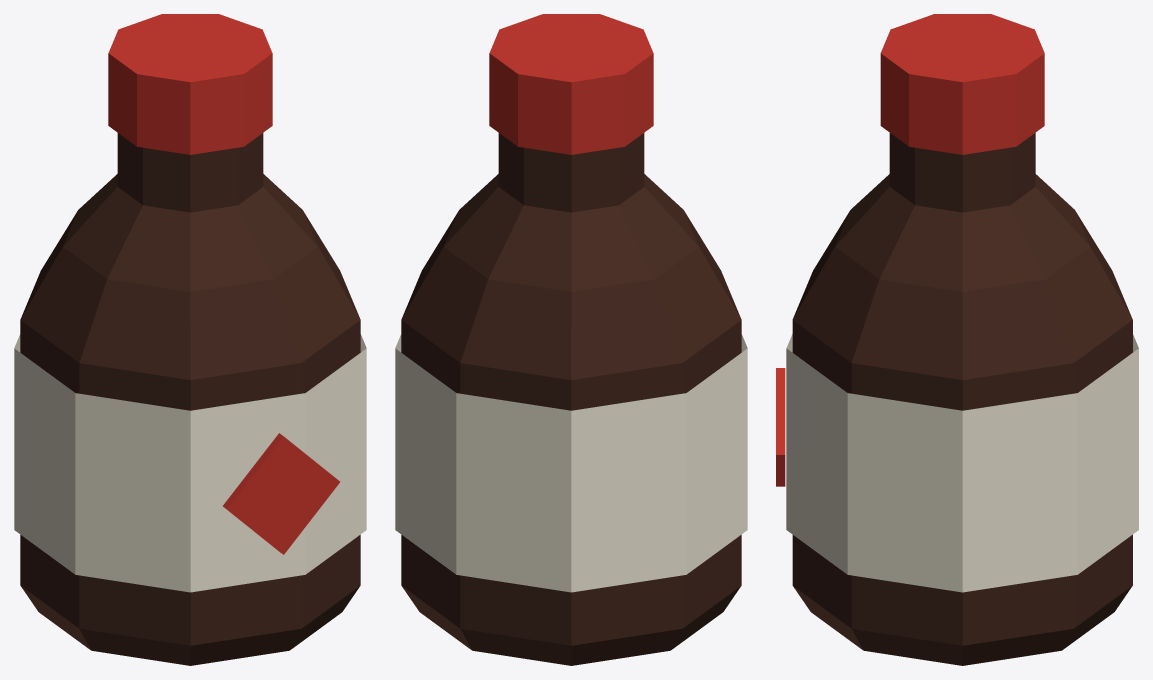
The model's file is Food_SoySauce.obj.
3 views of the same model, side by side, from view 1: azimuth 30°, elevation 25°; view 2: azimuth 150°, elevation 25°; view 3: azimuth 270°, elevation 25° (orthographic).
Bounding box in the file's own units: 1.12 × 1.98 × 1.18.
